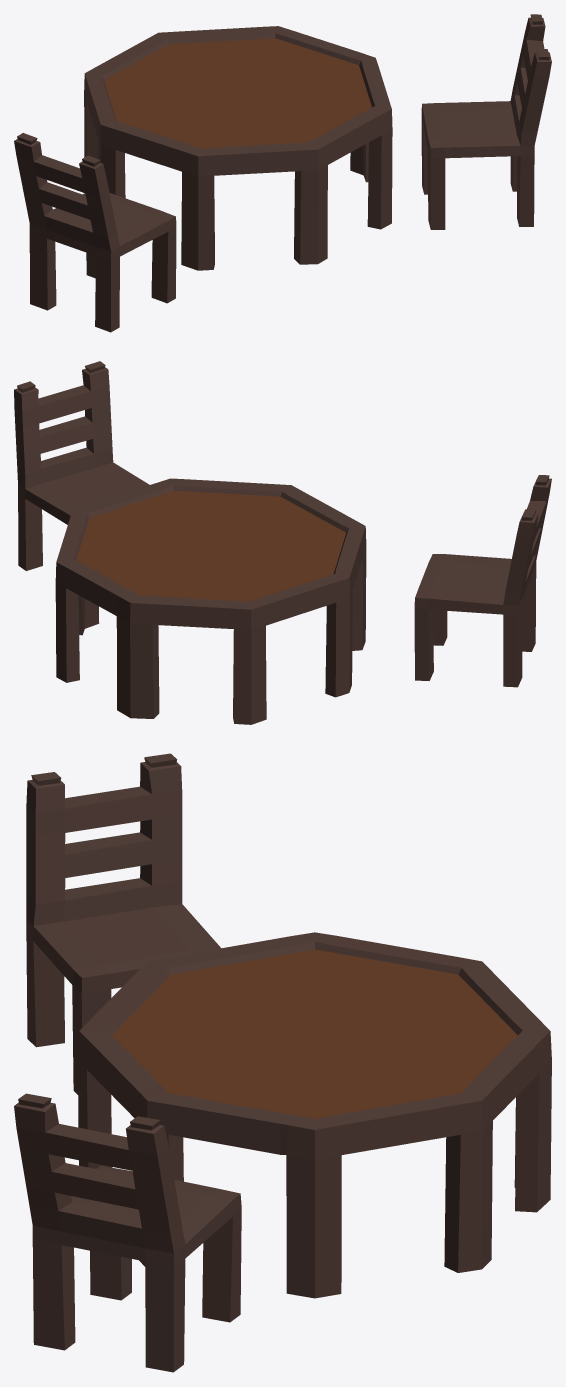
Rendered from TableWithChairs.fbx.
3 views of the same model, one above another, from view 1: azimuth 30°, elevation 25°; view 2: azimuth 150°, elevation 25°; view 3: azimuth 270°, elevation 25° (orthographic). The views are drawn at different scales.
Parts seen in each view (by area): view 1: Cube.013, Cube.003, Cube.005; view 2: Cube.013, Cube.005, Cube.003; view 3: Cube.013, Cube.005, Cube.003.
Part boxes in pixels (x1,y1,x2,y2): Cube.013: [84, 26, 392, 270]; Cube.003: [14, 133, 176, 332]; Cube.005: [421, 14, 551, 229]; Cube.013: [55, 478, 366, 724]; Cube.005: [14, 361, 149, 570]; Cube.003: [414, 475, 551, 687]; Cube.013: [77, 932, 551, 1298]; Cube.005: [14, 1093, 241, 1372]; Cube.003: [26, 753, 220, 1094].
Bounding box in the file's own units: 385 × 121 × 233.
